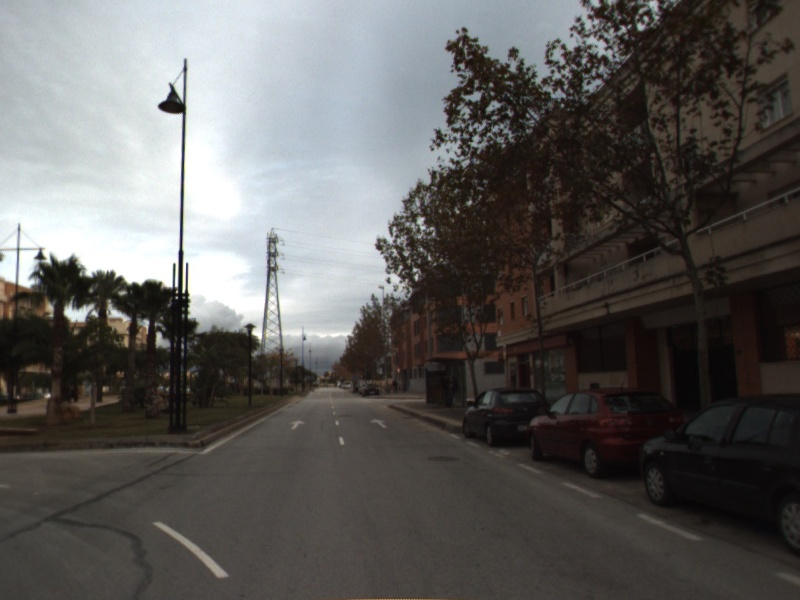STRAIGHT: (368, 417, 389, 430), (288, 418, 308, 431)
